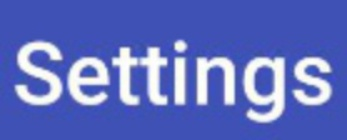TextView: (1, 1, 346, 139)
